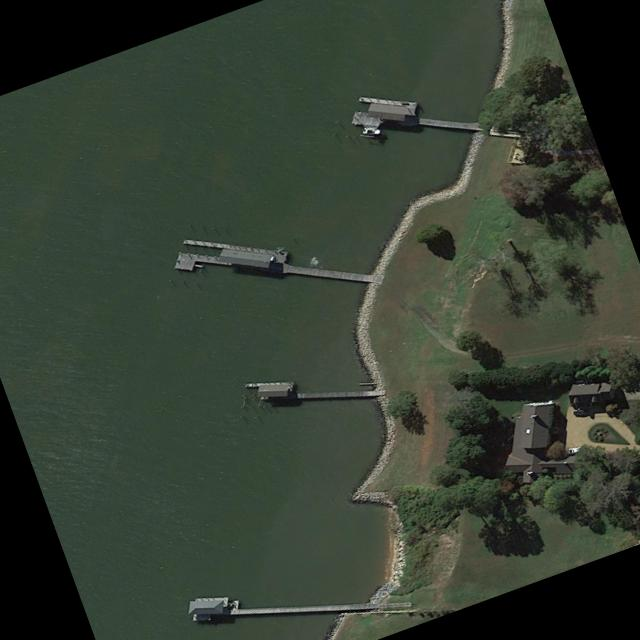ship: (361, 126, 383, 136)
small-vehicle: (566, 446, 583, 455), (574, 408, 590, 415)
